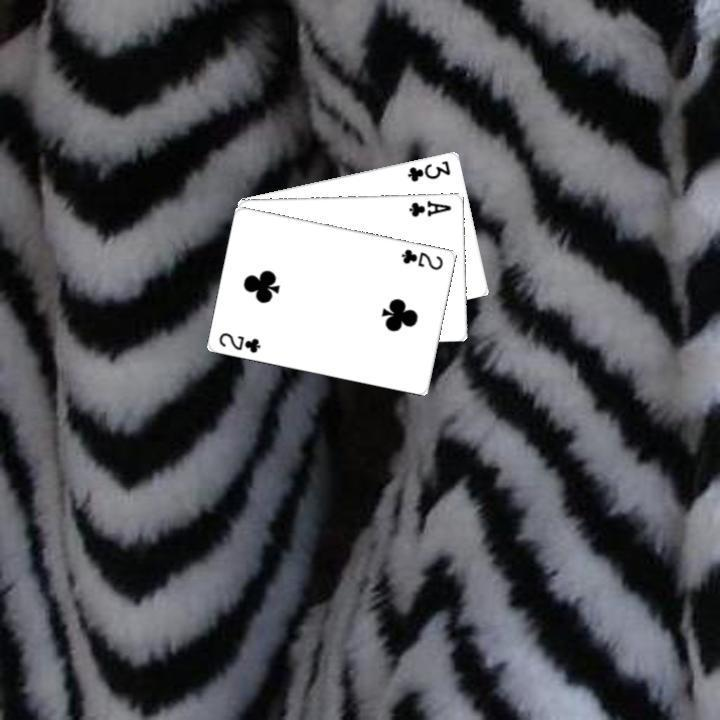2: (397, 244, 445, 272), (215, 328, 263, 355)
3: (403, 156, 453, 183)
A: (405, 196, 453, 218)
